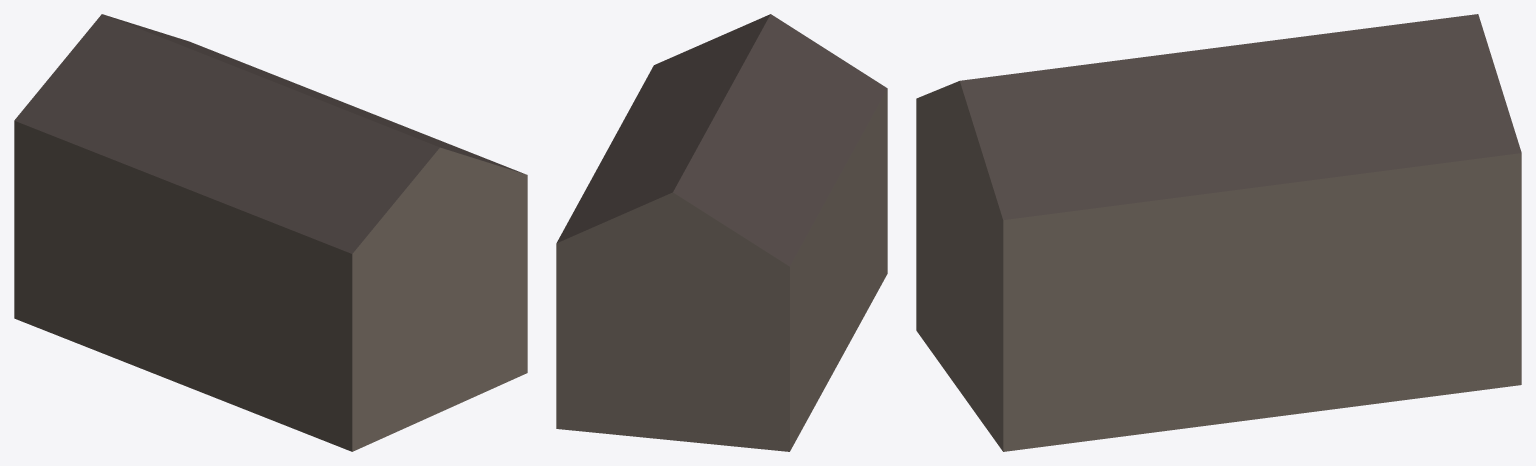
3 renders of one model, left to right at view 1: azimuth 30°, elevation 25°; view 2: azimuth 150°, elevation 25°; view 3: azimuth 270°, elevation 25°, orthographic. The views are drawn at different scales.
Visible parts, largest first — view 1: HP-w1365659911; view 2: HP-w1365659911; view 3: HP-w1365659911.
Boxes of the visible parts, x1=… form: HP-w1365659911: x1=14, y1=14, x2=527, y2=451; HP-w1365659911: x1=556, y1=14, x2=887, y2=451; HP-w1365659911: x1=916, y1=14, x2=1521, y2=451.
Bounding box in the file's own units: 10.45 × 8.03 × 14.2.
